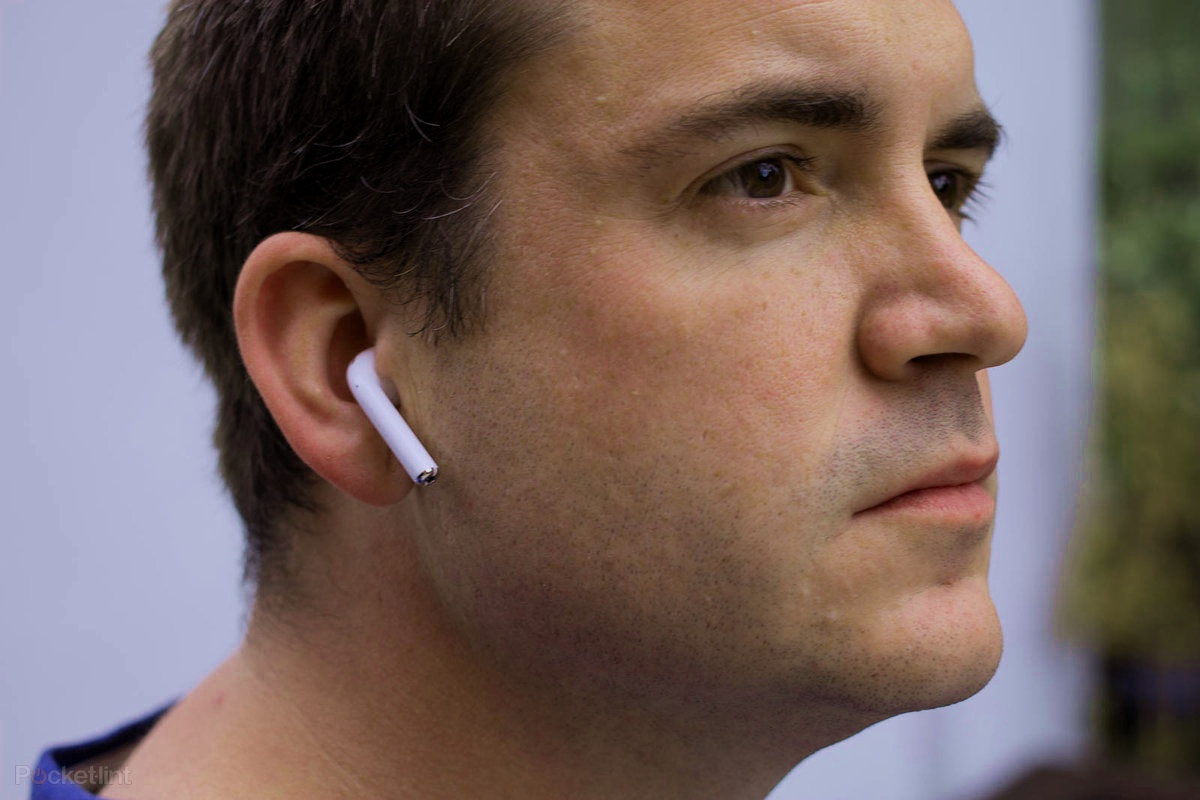earphone: (231, 232, 441, 509)
